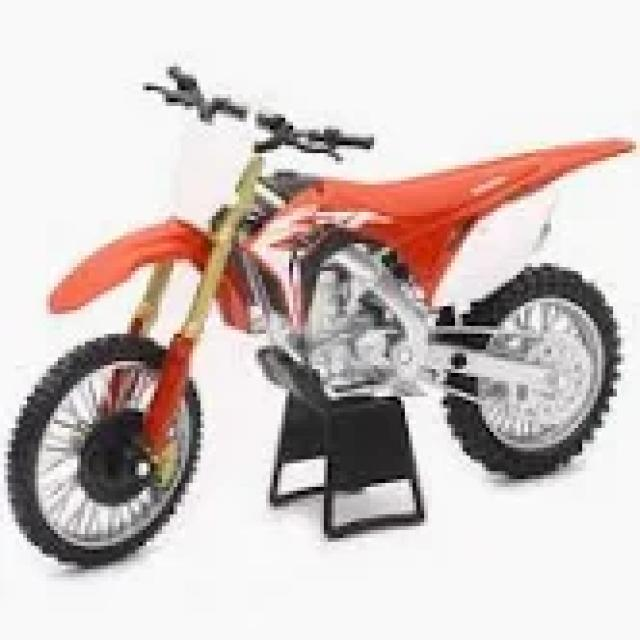motorcycle: (4, 58, 636, 566)
